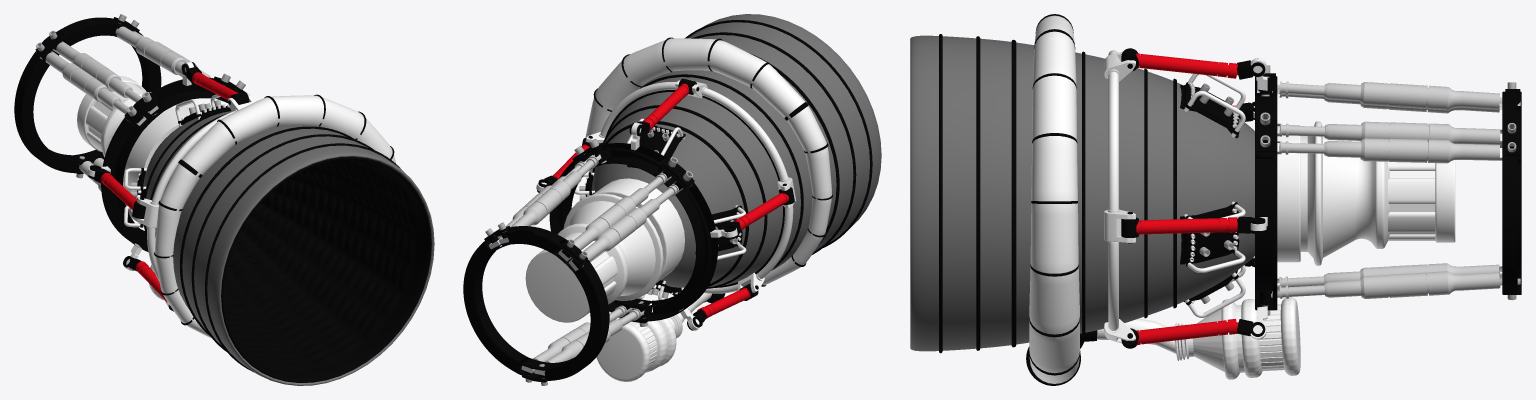
Rendered from thruster.glb.
3 renders of one model, left to right at view 1: azimuth 30°, elevation 25°; view 2: azimuth 150°, elevation 25°; view 3: azimuth 270°, elevation 25°, orthographic. The views are drawn at different scales.
Parts seen in each view (by area): view 1: Sphere.002_7, Sphere.001_6, Circle.015_11, Circle.001_2, Circle.041_19, Circle.002_3, Sphere.004_13, Circle.011_9, Circle.004_5, Circle.055_21, Circle.056_22, Cylinder.003_4 (+5 smaller); view 2: Sphere.001_6, Circle.001_2, Circle.015_11, Circle.002_3, Circle.041_19, Sphere.004_13, Circle.036_17, Circle.004_5, Circle.055_21, Circle.011_9, Circle.056_22, Cylinder.022_20 (+5 smaller); view 3: Sphere.001_6, Circle.041_19, Circle.002_3, Circle.015_11, Circle.001_2, Sphere.004_13, Circle.036_17, Circle.011_9, Circle.055_21, Circle.004_5, Plane.005_14, Cylinder.003_4 (+5 smaller).
Part boxes in pixels (<box>): Sphere.002_7: <box>221,156,431,382</box>; Sphere.001_6: <box>143,111,434,385</box>; Circle.015_11: <box>154,95,395,338</box>; Circle.001_2: <box>14,17,241,252</box>; Circle.041_19: <box>40,26,210,219</box>; Circle.002_3: <box>77,76,194,198</box>; Sphere.004_13: <box>144,109,401,372</box>; Circle.011_9: <box>100,72,238,301</box>; Circle.004_5: <box>147,111,235,280</box>; Circle.055_21: <box>35,17,244,225</box>; Circle.056_22: <box>36,14,245,213</box>; Cylinder.003_4: <box>134,94,255,305</box>; Sphere.001_6: <box>591,14,881,287</box>; Circle.001_2: <box>463,143,717,380</box>; Circle.015_11: <box>585,38,832,285</box>; Circle.002_3: <box>525,178,684,322</box>; Circle.041_19: <box>488,154,682,375</box>; Sphere.004_13: <box>592,20,872,288</box>; Circle.036_17: <box>596,293,711,381</box>; Circle.004_5: <box>600,82,793,293</box>; Circle.055_21: <box>484,125,742,382</box>; Circle.011_9: <box>552,83,788,318</box>; Circle.056_22: <box>485,129,737,385</box>; Cylinder.022_20: <box>490,78,794,378</box>; Sphere.001_6: <box>910,35,1254,351</box>; Circle.041_19: <box>1257,81,1520,298</box>; Circle.002_3: <box>1277,121,1455,265</box>; Circle.015_11: <box>1029,15,1079,383</box>; Circle.001_2: <box>1255,76,1521,310</box>; Sphere.004_13: <box>939,34,1176,353</box>; Circle.036_17: <box>1097,297,1300,379</box>; Circle.011_9: <box>1136,53,1238,344</box>; Circle.055_21: <box>1180,73,1520,306</box>; Circle.004_5: <box>1108,50,1118,330</box>; Plane.005_14: <box>1184,73,1245,317</box>; Cylinder.003_4: <box>1104,51,1135,343</box>.
Bounding box in the file's own units: 4.47 × 4.79 × 7.64.
